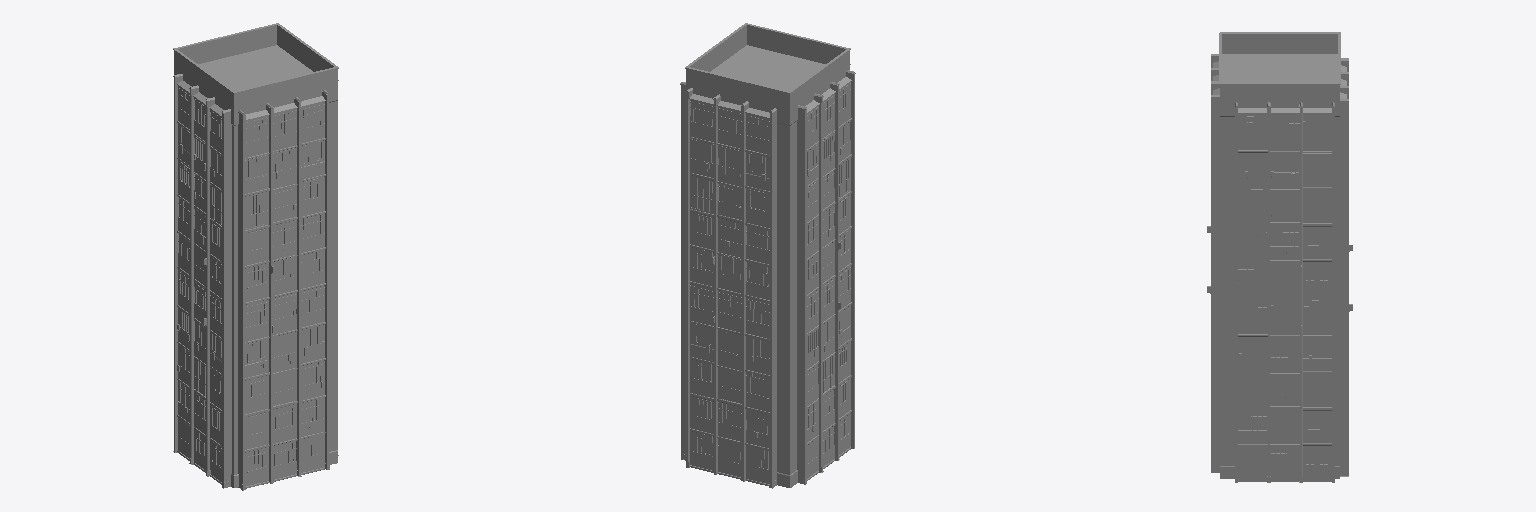
Rendered from edificiob_nuevo.obj.
3 views of the same model, side by side, from view 1: azimuth 30°, elevation 25°; view 2: azimuth 150°, elevation 25°; view 3: azimuth 270°, elevation 25° (orthographic).
Parts seen in each view (by area): view 1: Panel_House_Wikipedia_of_Russia_01_01.001; view 2: Panel_House_Wikipedia_of_Russia_01_01.001; view 3: Panel_House_Wikipedia_of_Russia_01_01.001.
Boxes of the visible parts, x1,y1,x2,y2 form: Panel_House_Wikipedia_of_Russia_01_01.001: [173, 23, 338, 490]; Panel_House_Wikipedia_of_Russia_01_01.001: [680, 23, 855, 488]; Panel_House_Wikipedia_of_Russia_01_01.001: [1207, 32, 1352, 482].
Size of the model in its own units: 10 by 30 by 10.